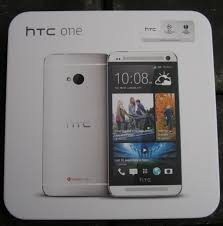htc: (109, 50, 182, 199), (40, 49, 109, 197)
